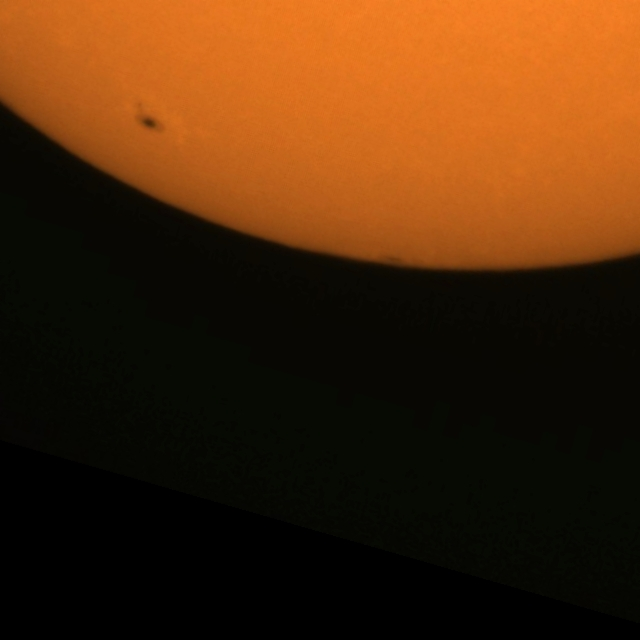sunspot: (133, 99, 162, 134)
